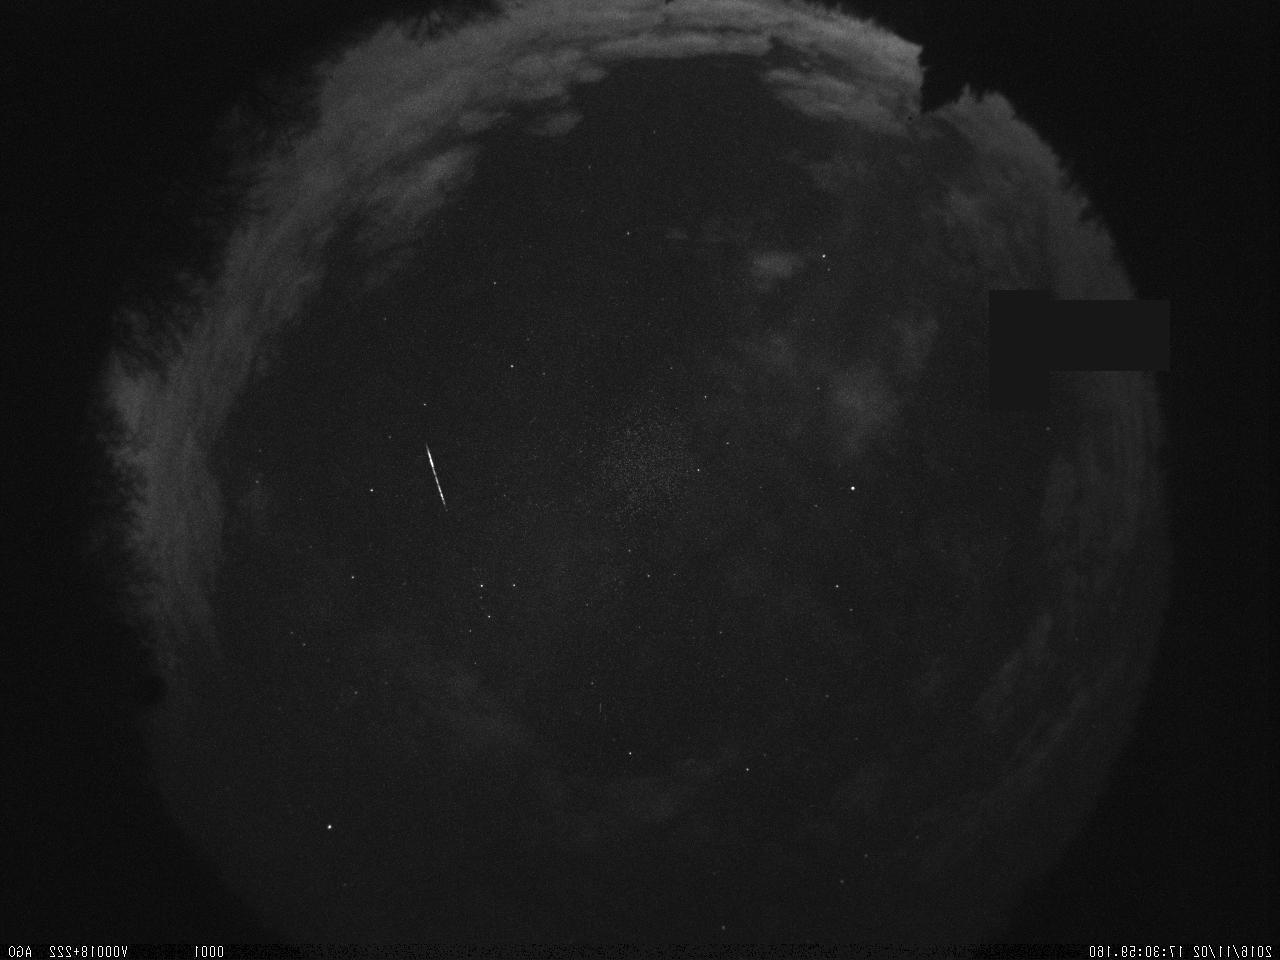meteor: (410, 439, 457, 512)
